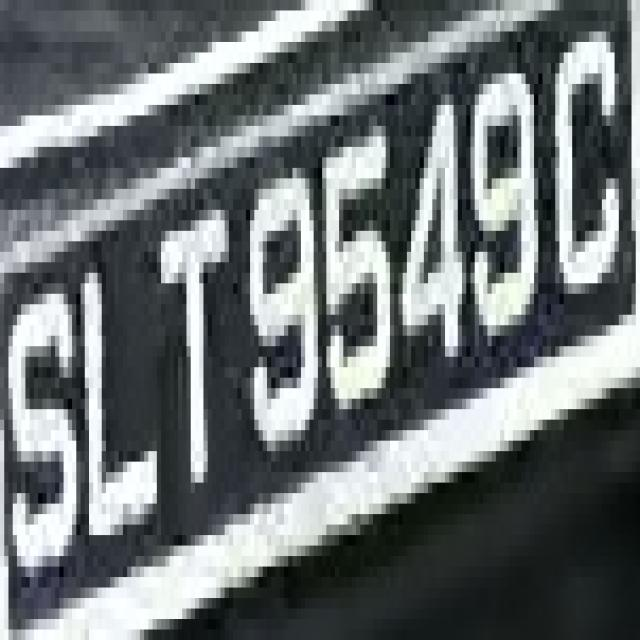4: (390, 52, 475, 378)
5: (322, 94, 394, 462)
9: (462, 31, 543, 356), (246, 147, 322, 472)
C: (547, 11, 627, 336)
L: (76, 220, 166, 577)
S: (13, 252, 72, 608)
T: (148, 189, 233, 535)
